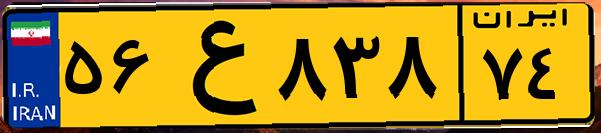3: (330, 28, 385, 110)
4: (525, 38, 570, 115)
5: (57, 26, 110, 100)
6: (110, 28, 158, 98)
7: (475, 38, 525, 113)
8: (270, 28, 330, 110), (385, 28, 445, 110)
ع: (158, 12, 270, 120)
